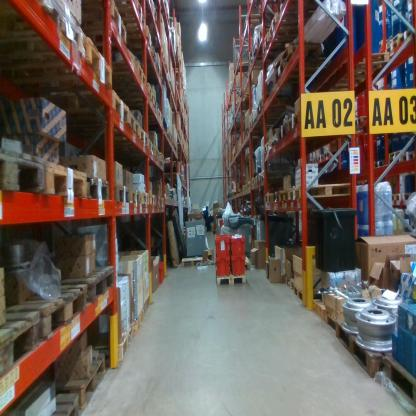pallet: (6, 39, 115, 101), (1, 1, 85, 68), (5, 282, 93, 345), (32, 80, 130, 133), (48, 258, 122, 309), (330, 312, 381, 378), (1, 306, 47, 376), (2, 136, 46, 209), (275, 57, 351, 97), (37, 148, 86, 205), (76, 5, 135, 50), (271, 34, 325, 80), (52, 352, 108, 396), (380, 354, 416, 410), (267, 8, 324, 43), (255, 79, 303, 120), (104, 51, 151, 92), (343, 46, 393, 77), (333, 68, 386, 95), (261, 26, 306, 56), (117, 22, 154, 57), (85, 166, 115, 207), (293, 278, 321, 321), (289, 183, 355, 201), (114, 2, 148, 30), (286, 106, 314, 136), (216, 268, 247, 294), (134, 108, 165, 132), (114, 176, 133, 215), (47, 398, 85, 415), (182, 252, 214, 271), (318, 298, 334, 330), (276, 117, 289, 153), (259, 137, 277, 163), (244, 125, 273, 141), (235, 100, 261, 116), (130, 107, 141, 142), (386, 27, 402, 51), (382, 38, 401, 58), (242, 12, 264, 29), (130, 181, 142, 208), (233, 255, 250, 274), (399, 146, 415, 166), (259, 167, 274, 188), (279, 183, 292, 207), (401, 23, 414, 47), (144, 131, 154, 159), (138, 187, 150, 210), (282, 274, 298, 291), (140, 126, 150, 153), (387, 189, 402, 207), (386, 148, 408, 159), (245, 44, 257, 64), (238, 87, 256, 100), (386, 153, 402, 167), (310, 153, 325, 167), (154, 93, 163, 116), (247, 56, 259, 73), (149, 80, 156, 109), (402, 189, 415, 204), (257, 26, 265, 50), (148, 188, 157, 209), (373, 159, 387, 172), (266, 188, 274, 210), (376, 39, 389, 52), (273, 188, 281, 207), (152, 142, 160, 160), (325, 149, 335, 161), (156, 63, 163, 80), (249, 117, 256, 129), (251, 174, 256, 188), (240, 181, 247, 191), (246, 182, 253, 192), (257, 173, 260, 187), (163, 160, 166, 167), (245, 180, 248, 185)
small_load_carrier: (228, 232, 246, 259), (229, 252, 247, 279), (213, 256, 233, 278), (213, 234, 230, 256), (154, 262, 165, 287)
